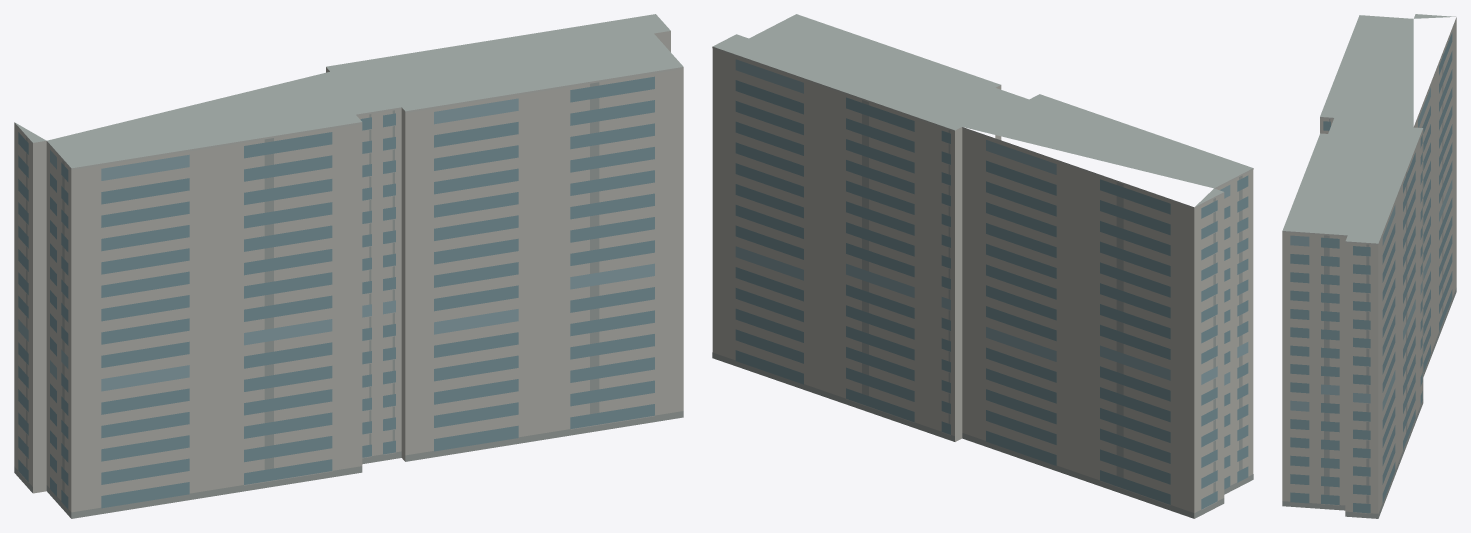
Rendered from residential-46d27458-a92d-4025-b591-b0fe94121003.glb.
The picture shows the model from 3 angles, left to right: view 1: azimuth 30°, elevation 25°; view 2: azimuth 150°, elevation 25°; view 3: azimuth 270°, elevation 25°; orthographic projection. The views are drawn at different scales.
Visible parts, largest first — view 1: residential-46d27458-a92d-4025-b591-b0fe94121003.tmp; view 2: residential-46d27458-a92d-4025-b591-b0fe94121003.tmp; view 3: residential-46d27458-a92d-4025-b591-b0fe94121003.tmp.
Boxes of the visible parts, box(x1,y1,x2,y2) form: residential-46d27458-a92d-4025-b591-b0fe94121003.tmp: box(14, 14, 683, 518); residential-46d27458-a92d-4025-b591-b0fe94121003.tmp: box(712, 14, 1253, 518); residential-46d27458-a92d-4025-b591-b0fe94121003.tmp: box(1282, 14, 1456, 518).
Size of the model in its own units: 81.86 by 45.75 by 26.24.
